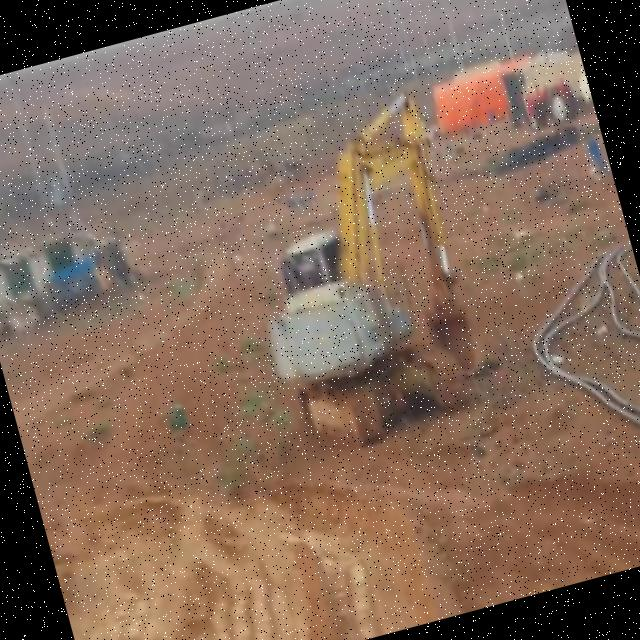Excavator: (207, 84, 498, 468)
